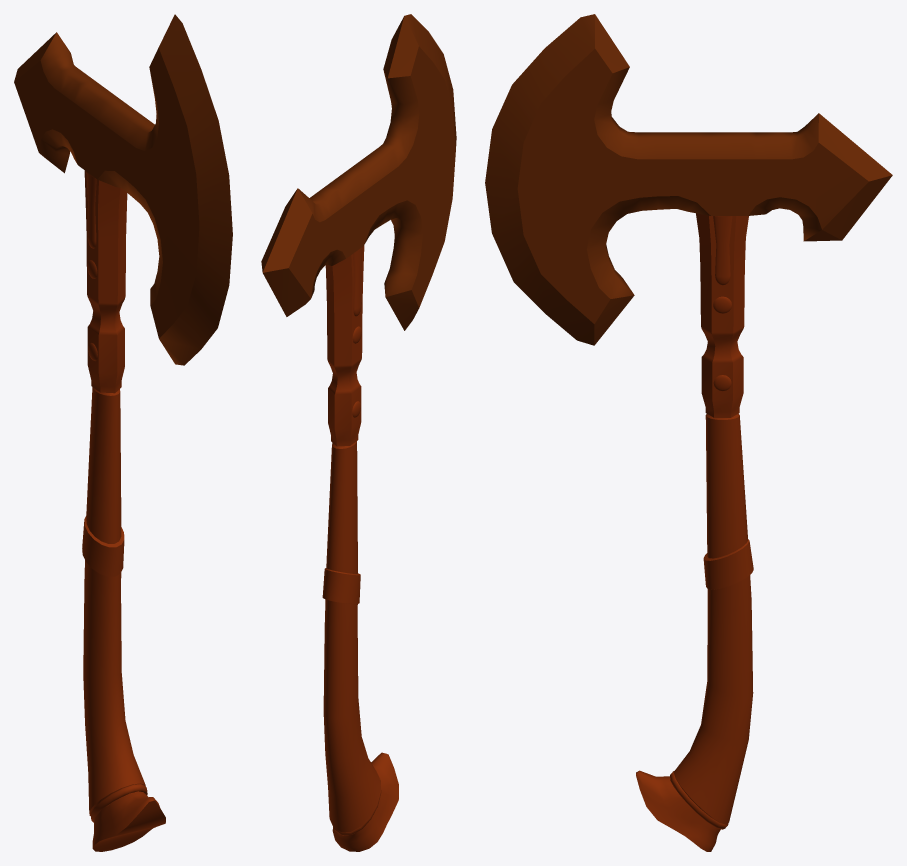
Rendered from Axe002.fbx.
3 views of the same model, side by side, from view 1: azimuth 30°, elevation 25°; view 2: azimuth 150°, elevation 25°; view 3: azimuth 270°, elevation 25° (orthographic). The views are drawn at different scales.
Visible parts, largest first — view 1: Axe02; view 2: Axe02; view 3: Axe02.
Boxes of the visible parts, x1,y1,x2,y2 form: Axe02: (14,14,232,851); Axe02: (261,14,456,851); Axe02: (485,14,892,851).
Size of the model in its own units: 6.45 by 100 by 44.33.
